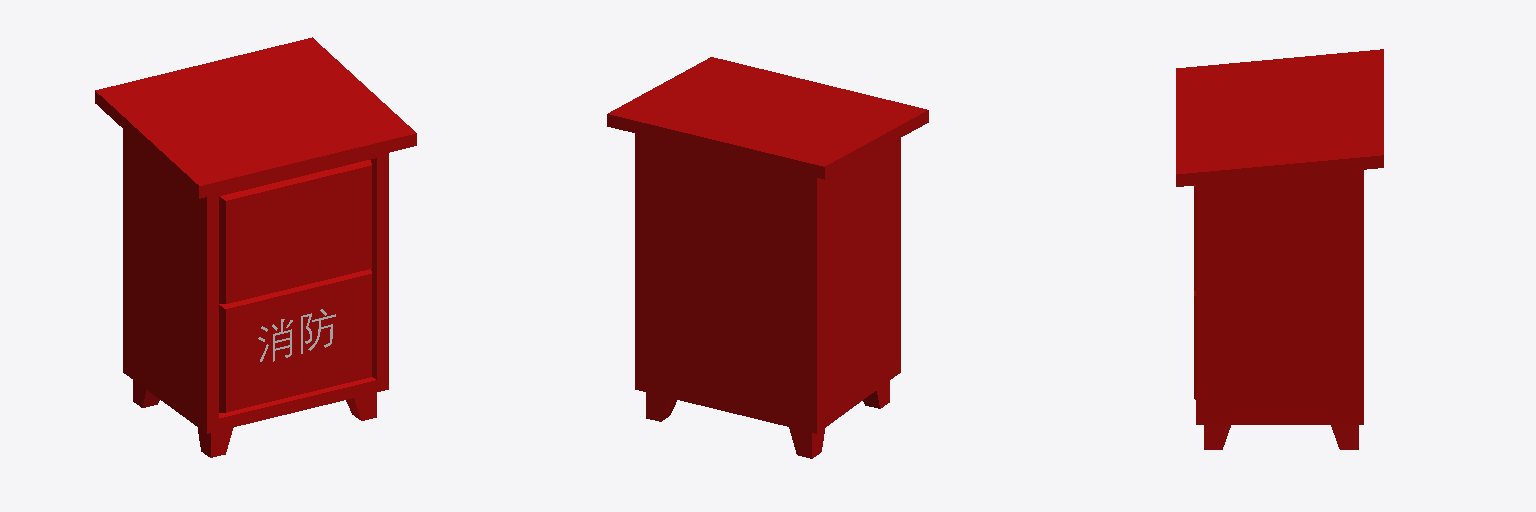
The model's file is 消防设备.obj.
3 renders of one model, left to right at view 1: azimuth 30°, elevation 25°; view 2: azimuth 150°, elevation 25°; view 3: azimuth 270°, elevation 25°, orthographic.
Parts seen in each view (by area): view 1: 消防设备; view 2: 消防设备; view 3: 消防设备.
Part boxes in pixels (x1,y1,x2,y2): 消防设备: (95,37,416,457); 消防设备: (607,57,928,458); 消防设备: (1176,49,1383,449).
Bounding box in the file's own units: 79.93 × 108 × 66.48.